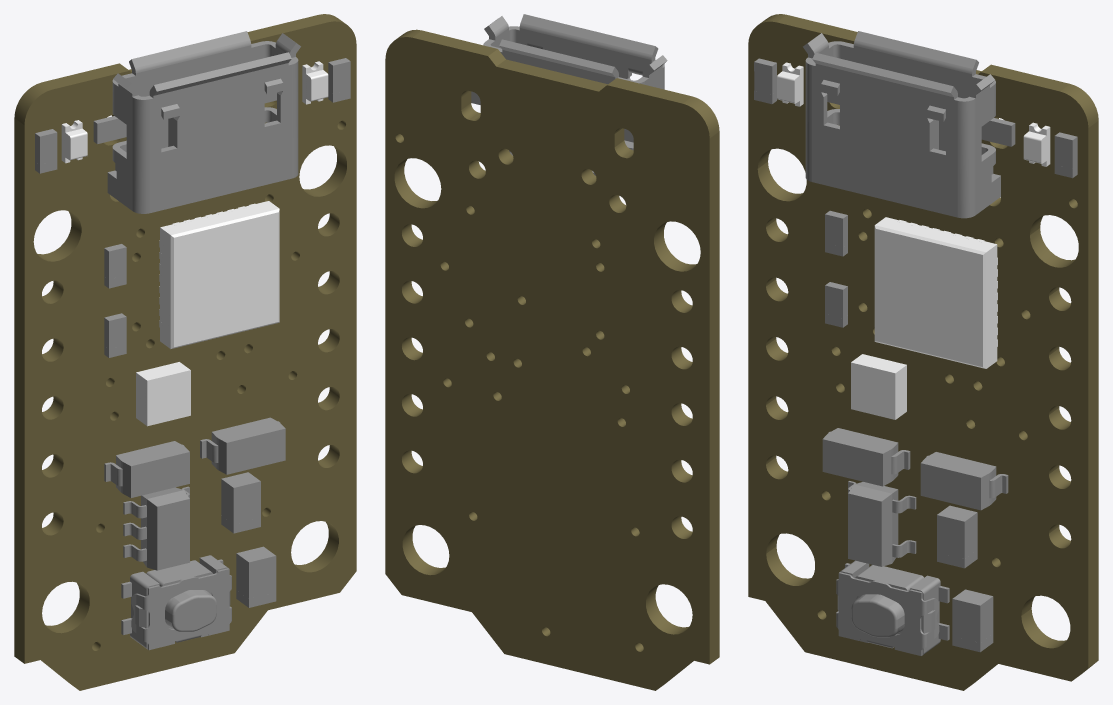
Rendered from Trinket M0.glb.
The picture shows the model from 3 angles, left to right: view 1: azimuth 30°, elevation 25°; view 2: azimuth 150°, elevation 25°; view 3: azimuth 330°, elevation 25°; orthographic projection. The views are drawn at different scales.
Parts seen in each view (by area): view 1: Board, 4UCONN_20329_V2, PCB Component, BTN_KMR2_4.6X2.8, SOD-123FL (×2), SOT23-5, 0805-NO (×2), 0603-NO (×4); view 2: Board, 4UCONN_20329_V2; view 3: Board, 4UCONN_20329_V2, PCB Component, BTN_KMR2_4.6X2.8, SOD-123FL (×2), 0805-NO (×2), SOT23-5, 0603-NO (×4).
Part boxes in pixels (bbox=[...]): Board: bbox=[14, 14, 356, 690]; 4UCONN_20329_V2: bbox=[93, 31, 300, 213]; PCB Component: bbox=[61, 61, 328, 426]; BTN_KMR2_4.6X2.8: bbox=[121, 555, 231, 650]; SOD-123FL (×2): bbox=[104, 417, 285, 497]; SOT23-5: bbox=[123, 486, 189, 570]; 0805-NO (×2): bbox=[221, 472, 276, 607]; 0603-NO (×4): bbox=[35, 58, 350, 357]; Board: bbox=[385, 29, 719, 690]; 4UCONN_20329_V2: bbox=[471, 14, 667, 175]; Board: bbox=[748, 14, 1098, 690]; 4UCONN_20329_V2: bbox=[803, 31, 1015, 218]; PCB Component: bbox=[777, 62, 1050, 419]; BTN_KMR2_4.6X2.8: bbox=[836, 560, 949, 655]; SOD-123FL (×2): bbox=[822, 428, 1008, 510]; 0805-NO (×2): bbox=[937, 505, 993, 652]; SOT23-5: bbox=[848, 481, 916, 566]; 0603-NO (×4): bbox=[754, 58, 1077, 327].
Bounding box in the file's own units: 15.24 × 27.15 × 3.57.
